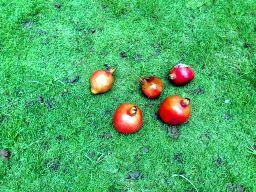pomegranate: (158, 95, 191, 126), (113, 103, 143, 134), (89, 68, 116, 95), (168, 62, 195, 86), (138, 75, 162, 99)
